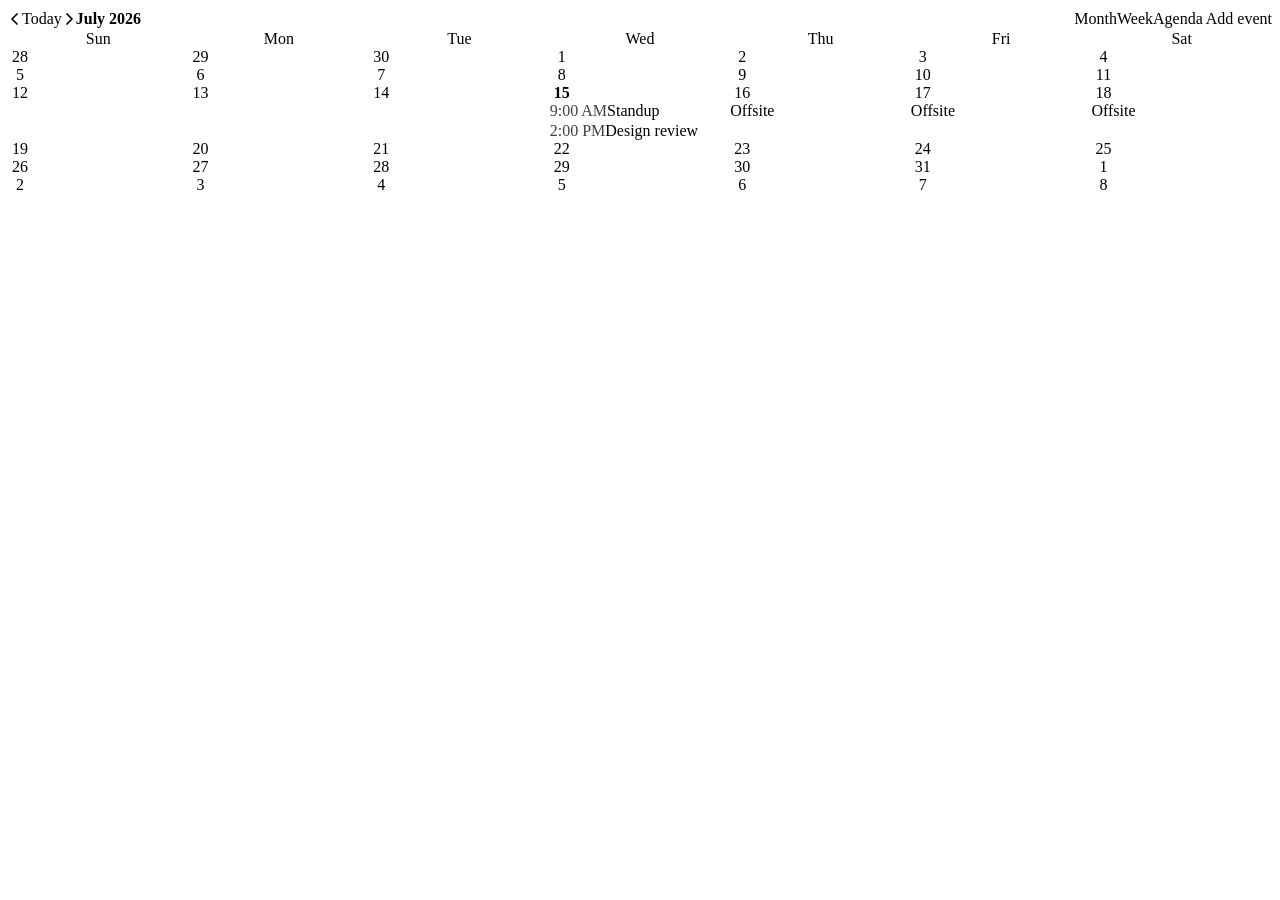
Test: CalendarView editing › opens a blank editor on the add control
What coordinates should you click on to do the following:
click the button "Add event"
I would click on:
 (1239, 19)
Its box is 1206,9 -> 1272,29.
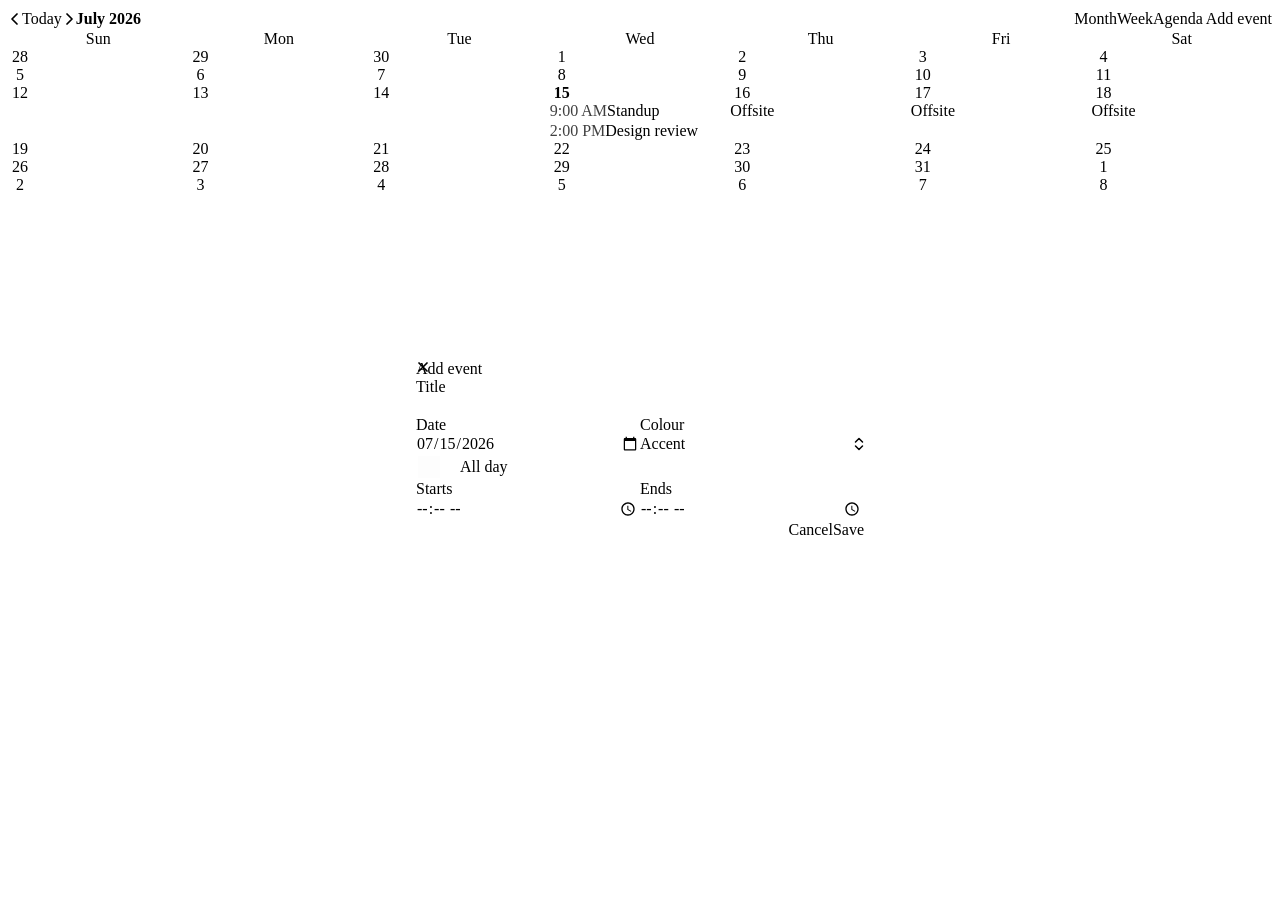
Expected: the field labelled "Title" is empty, 416,396 -> 864,416
Now the dialog is shown, box 416,360 -> 864,540
